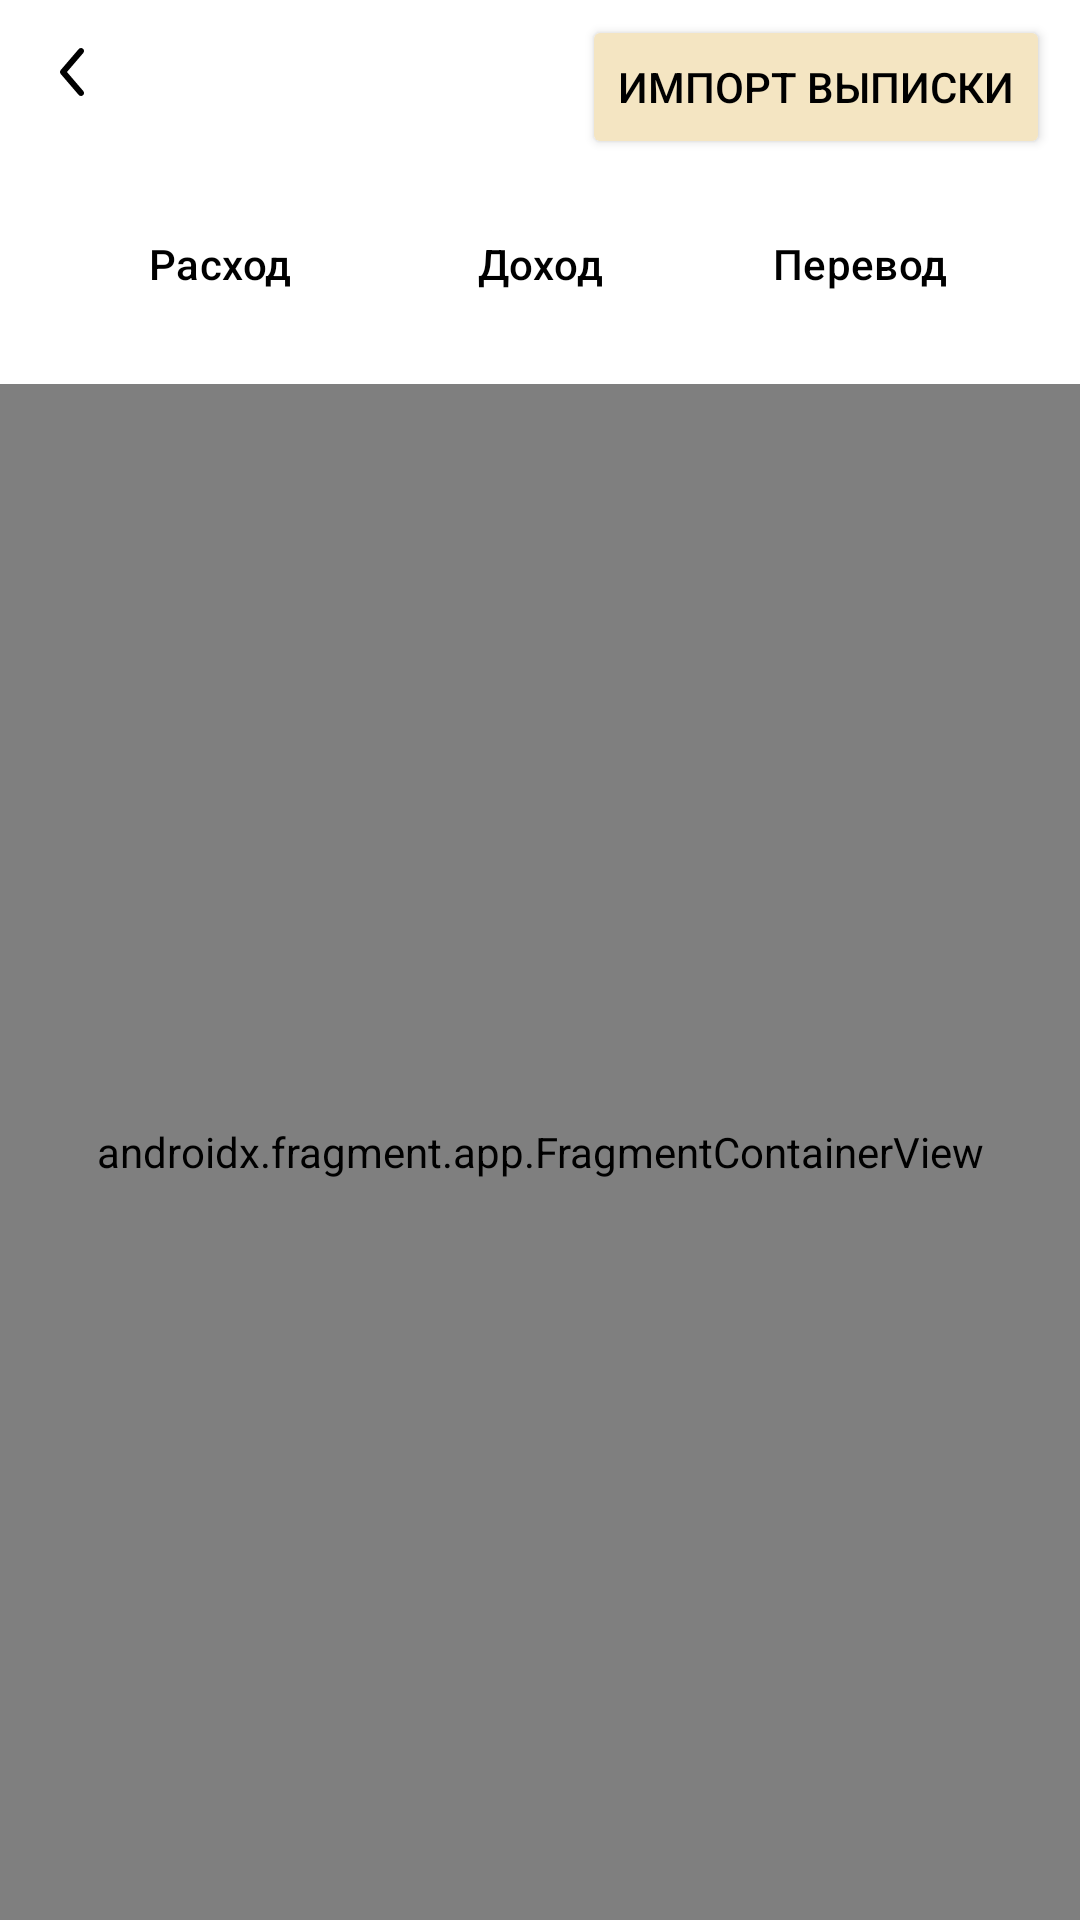

Icon click points for this 1080 x 1920 phone screenshot, format [x,y]:
back: [72,72]
